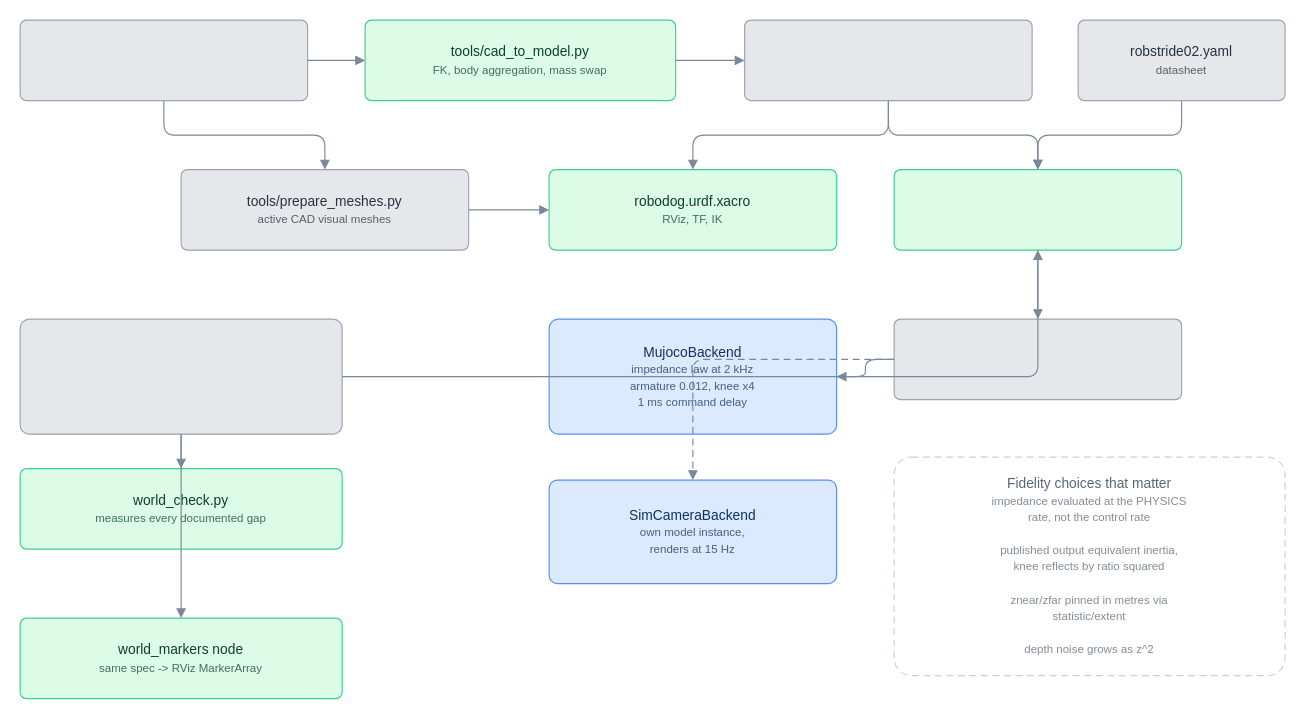
The diagram is 1305 pixels wide and 719 high, and some of its shapes have lost their labels. Here are the shapes that lost their labels. From the top down, the centre of each, then its label:
At point 163,60: "Onshape CAD export 264 links, 12 revolute".
At point 887,60: "robot_parameters.yaml kinematics, inertia, visuals".
At point 1037,209: "robodog_sim/mjcf.py MJCF generator".
At point 180,376: "world_spec + worlds/house.py 5 rooms, doors, stairs, narrow gaps, movable props".
At point 1037,359: "models/*.xml robot, flat, house".
